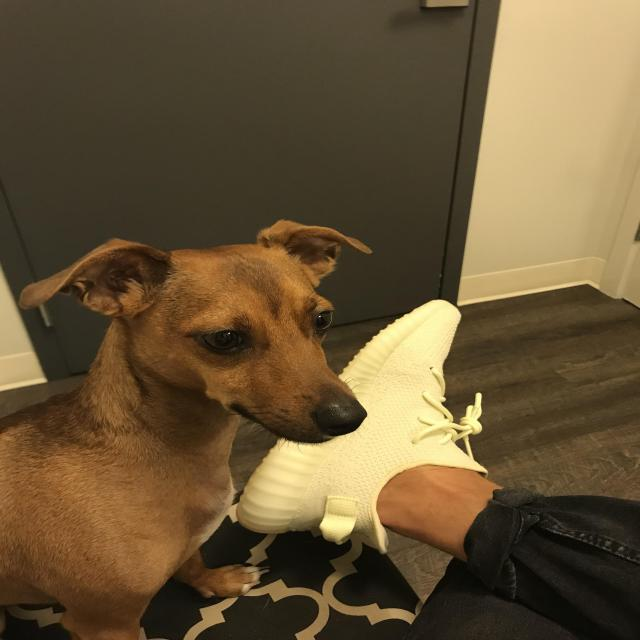shoe: (238, 282, 557, 558)
